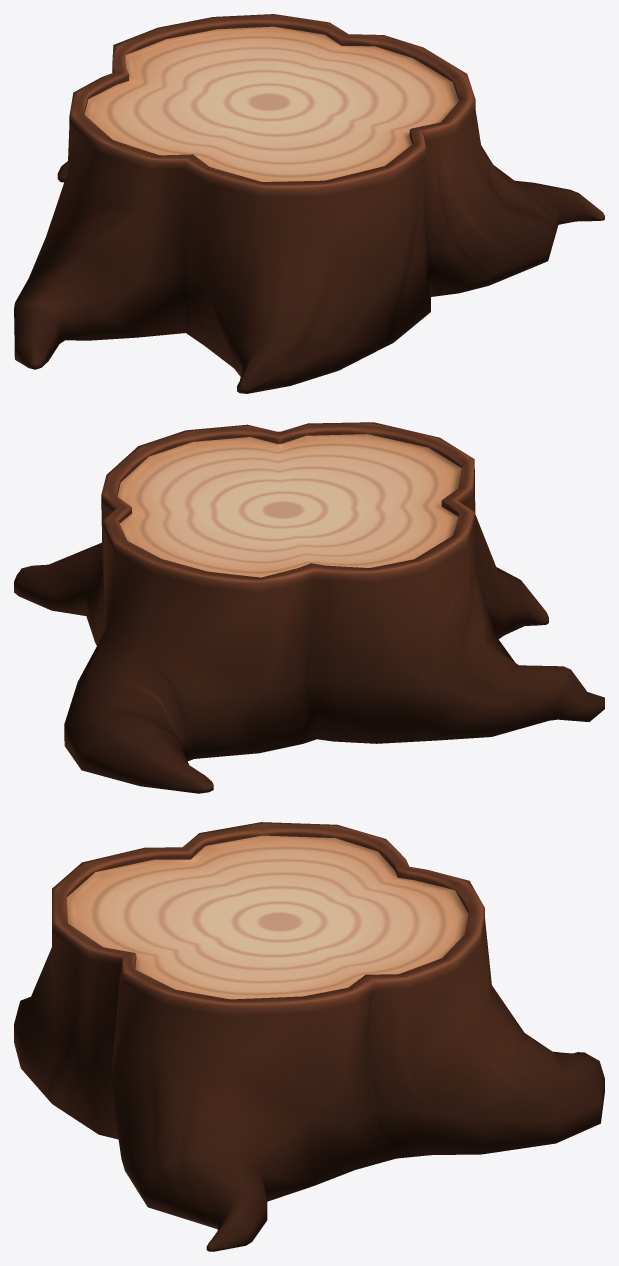
Rendered from Stump.FBX.
3 views of the same model, one above another, from view 1: azimuth 30°, elevation 25°; view 2: azimuth 150°, elevation 25°; view 3: azimuth 270°, elevation 25° (orthographic). The views are drawn at different scales.
Visible parts, largest first — view 1: Stump; view 2: Stump; view 3: Stump.
Part boxes in pixels (x1,y1,x2,y2): Stump: (14, 14, 604, 393); Stump: (14, 422, 604, 793); Stump: (14, 822, 604, 1251).
Size of the model in its own units: 139 by 40.1 by 116.
Materials: 1 (1 with a texture image).
